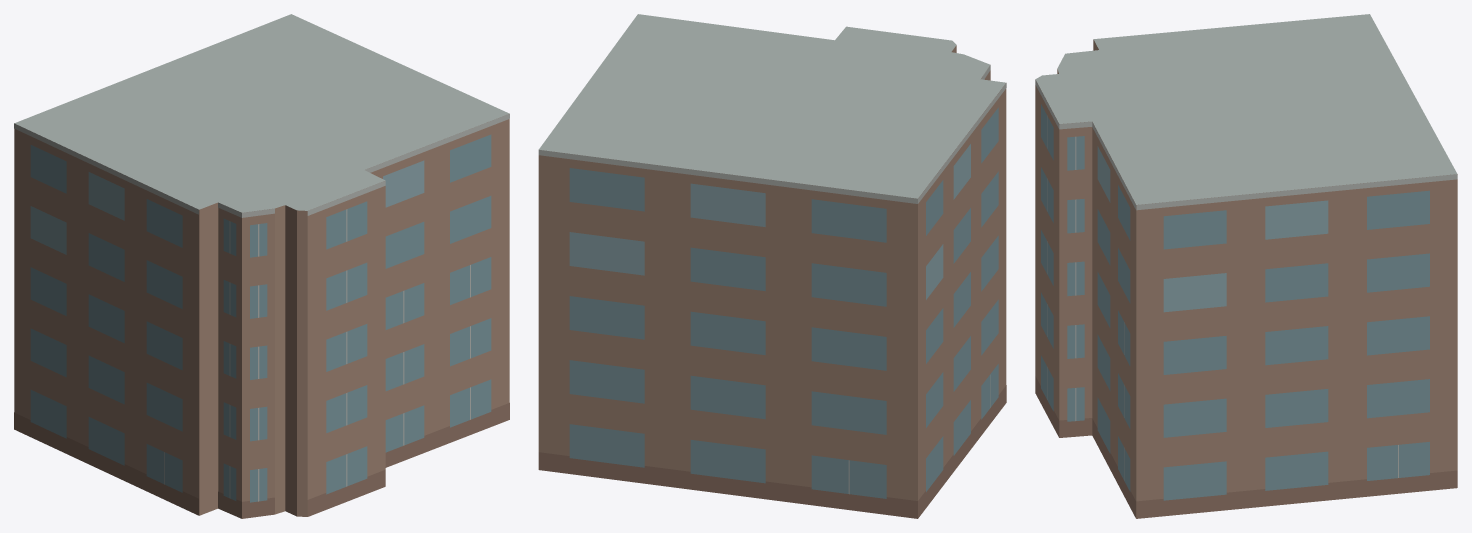
Rendered from survey-upis-32930007.glb.
3 renders of one model, left to right at view 1: azimuth 30°, elevation 25°; view 2: azimuth 150°, elevation 25°; view 3: azimuth 270°, elevation 25°, orthographic. The views are drawn at different scales.
Parts seen in each view (by area): view 1: survey-upis-32930007.tmp; view 2: survey-upis-32930007.tmp; view 3: survey-upis-32930007.tmp.
Part boxes in pixels (left/top/right/bottom): survey-upis-32930007.tmp: left=14, top=14, right=509, bottom=518; survey-upis-32930007.tmp: left=538, top=14, right=1006, bottom=518; survey-upis-32930007.tmp: left=1035, top=14, right=1457, bottom=518.
Bounding box in the file's own units: 18.8 × 14.4 × 17.56.
